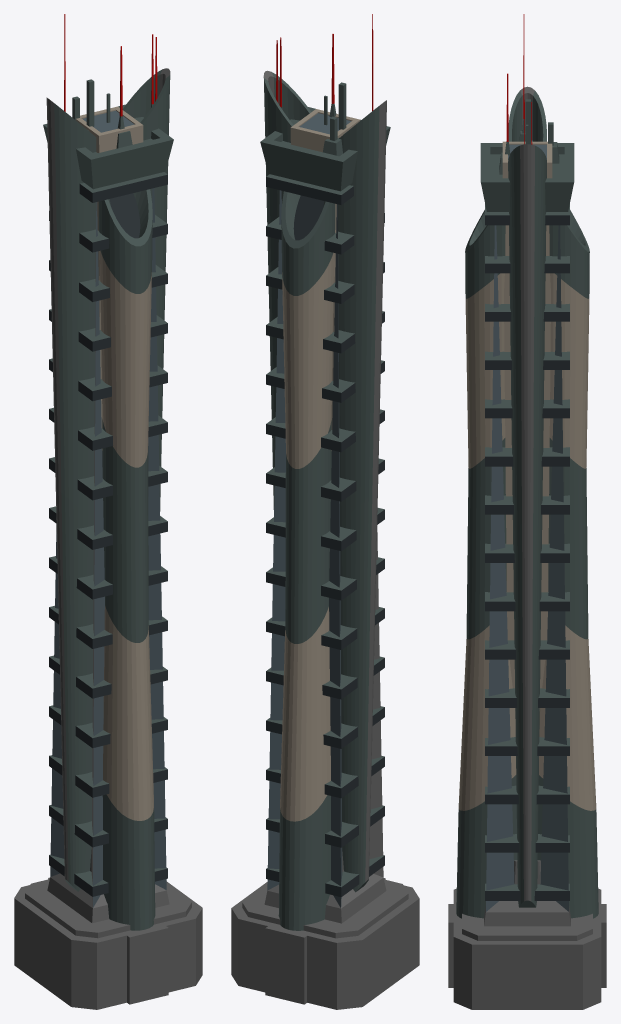
The model's file is building_36.fbx.
3 views of the same model, side by side, from view 1: azimuth 30°, elevation 25°; view 2: azimuth 150°, elevation 25°; view 3: azimuth 270°, elevation 25° (orthographic). The views are drawn at different scales.
Visible parts, largest first — view 1: building_36; view 2: building_36; view 3: building_36.
Boxes of the visible parts, bbox=[...] form: building_36: bbox=[14, 14, 202, 1009]; building_36: bbox=[231, 14, 419, 1009]; building_36: bbox=[448, 14, 606, 1009].
Size of the model in its own units: 870 by 6119 by 932.
